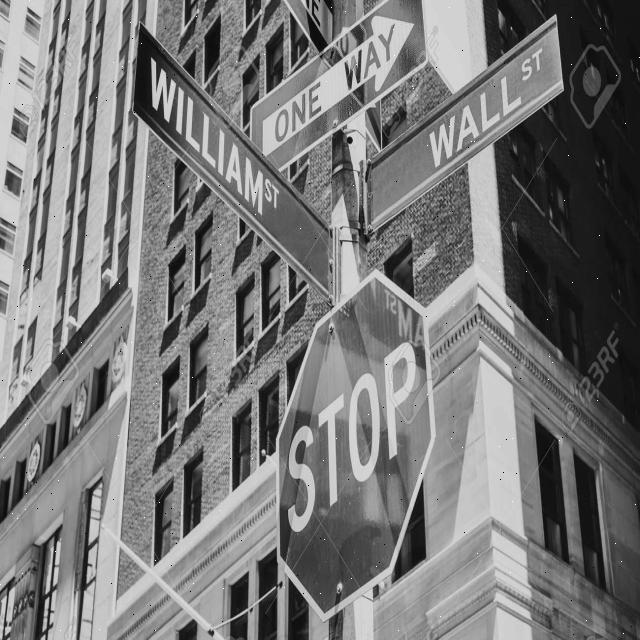Stop-sign: (268, 263, 451, 605)
